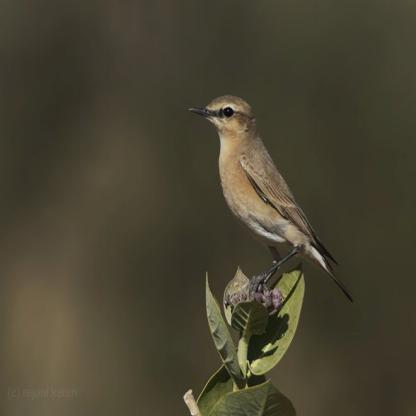Burung: (186, 94, 355, 310)
